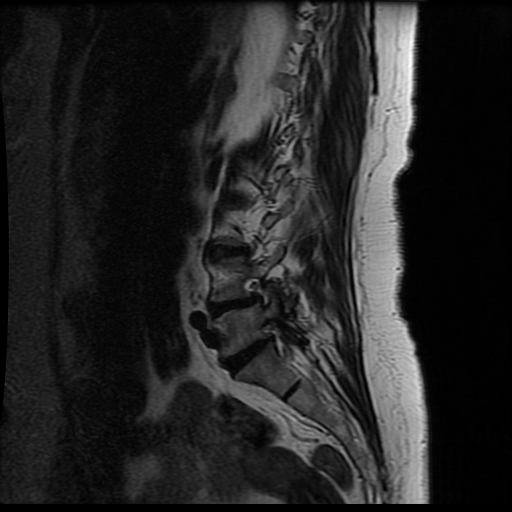LFS2: (239, 268, 281, 318)
